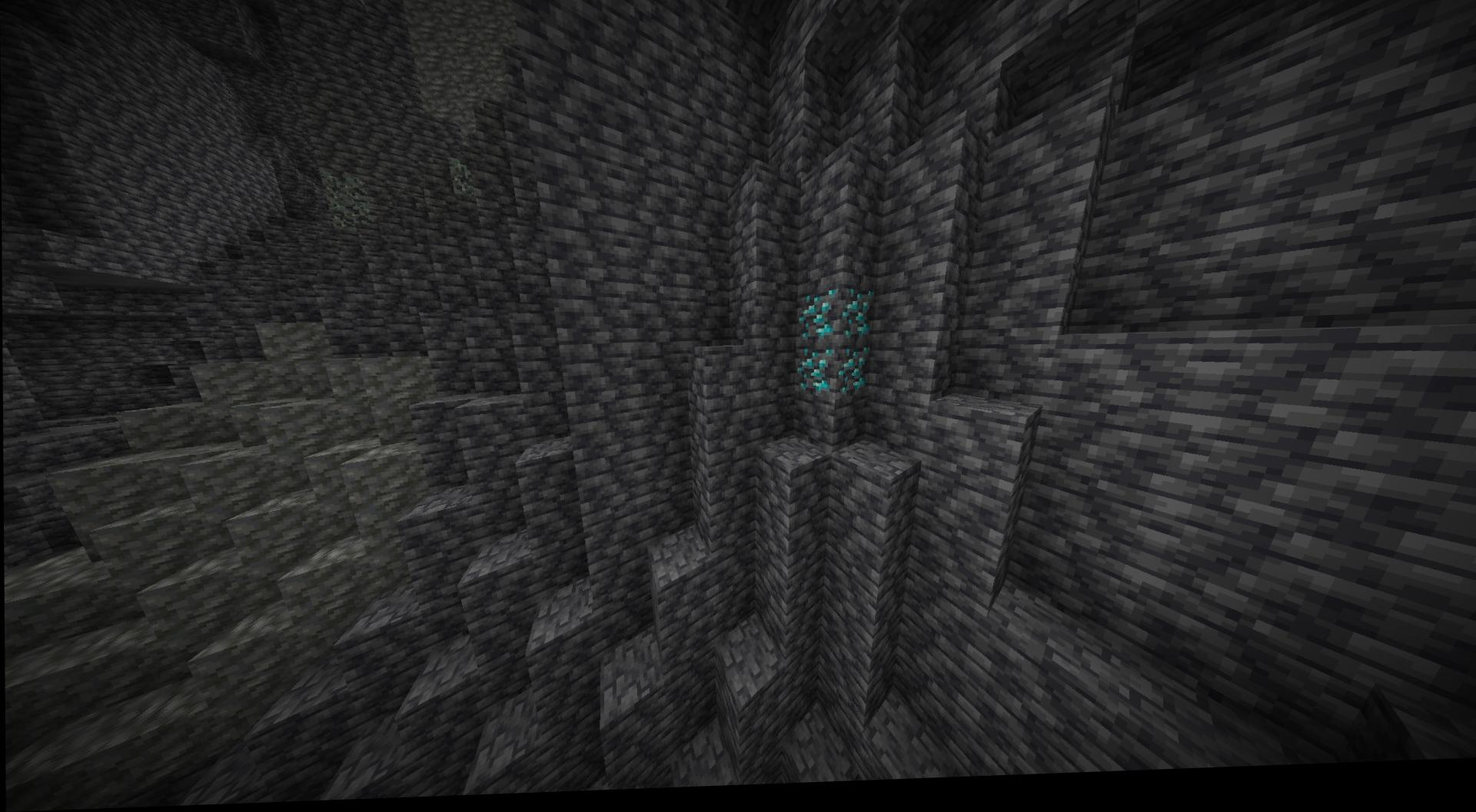diamond ore: (788, 348, 839, 405), (797, 301, 839, 348), (840, 290, 873, 347), (836, 348, 871, 398)
